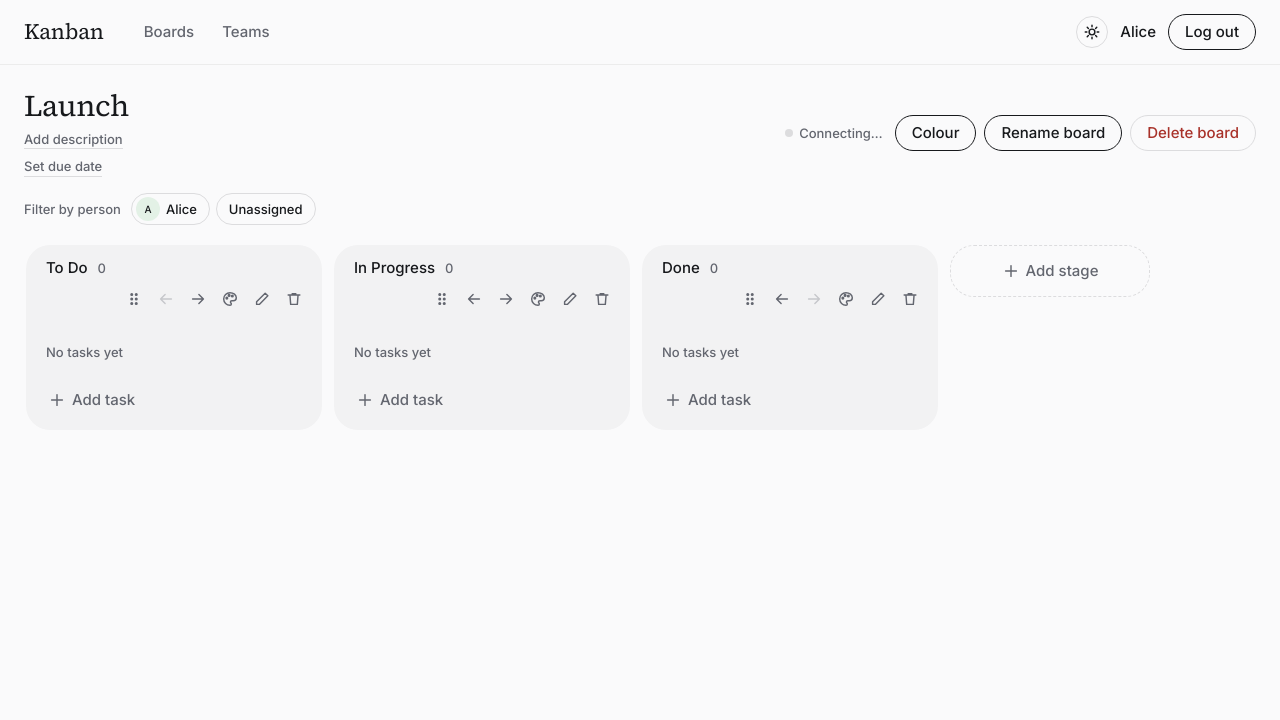
Test: setting a due date › keeps the form open with the error when saving fails
Click the button "Set due date" at (63, 167), box [24,157,102,177]
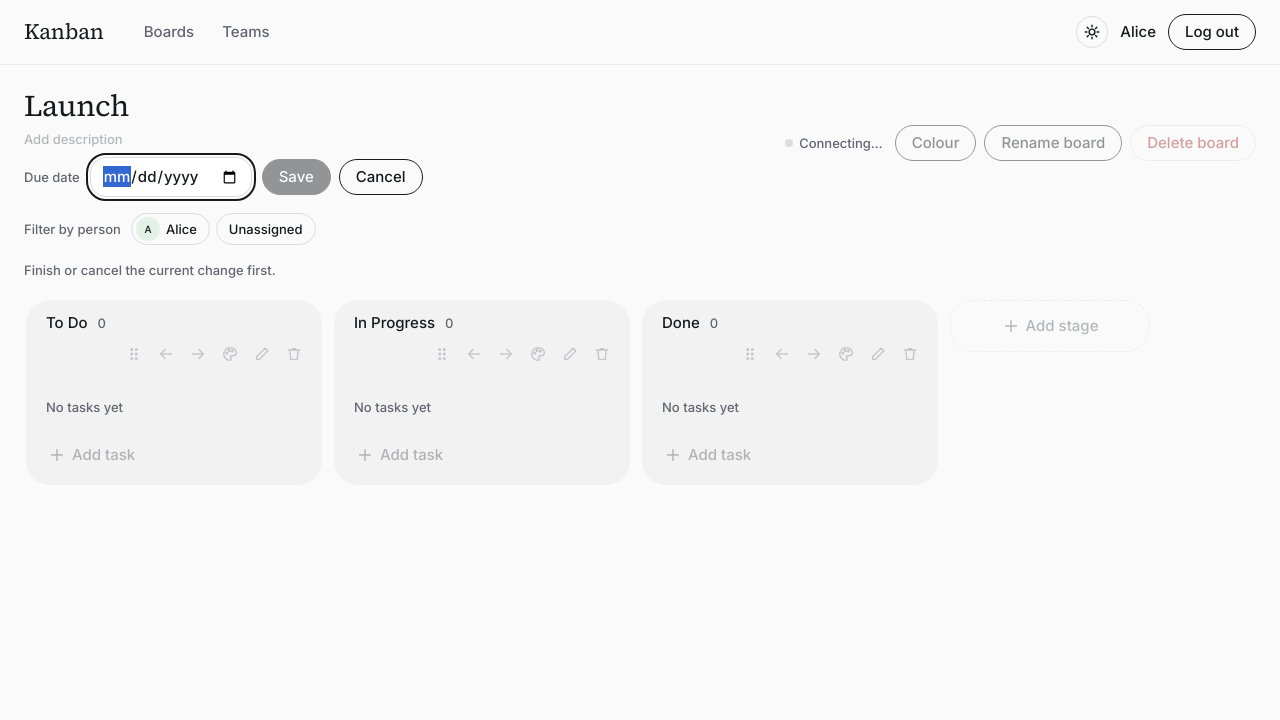
Type "2026-11-30" into the date field labelled "Due date" at (171, 177), box [90,157,252,197]
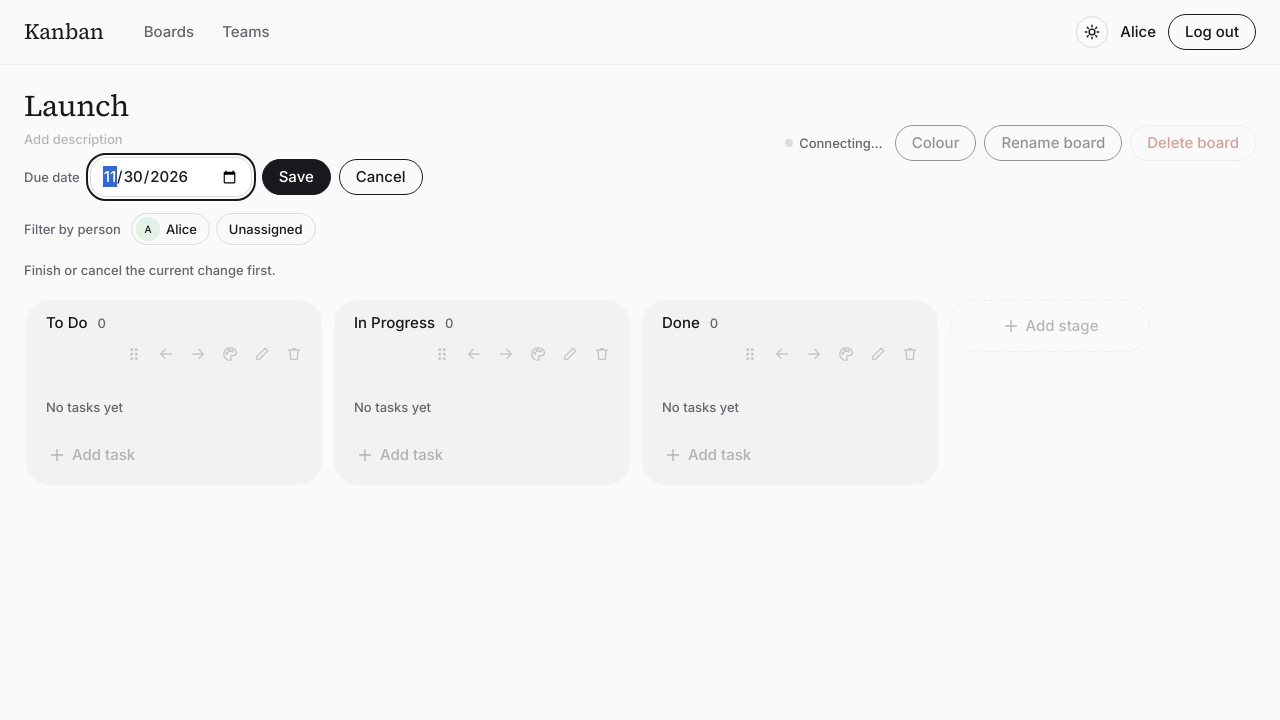
Click the button with aria-label "Save due date" at (296, 177), box [262,159,331,195]
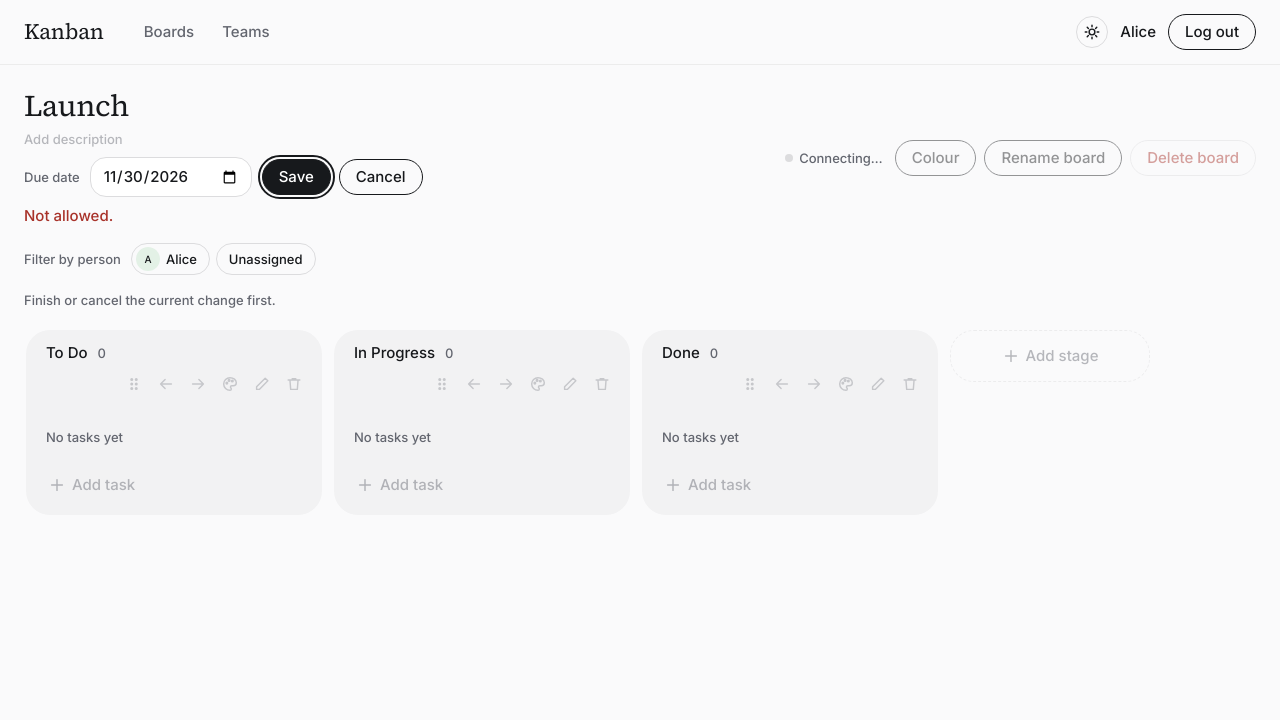
Result: the message "Not allowed." is shown at [24,206,113,225]
